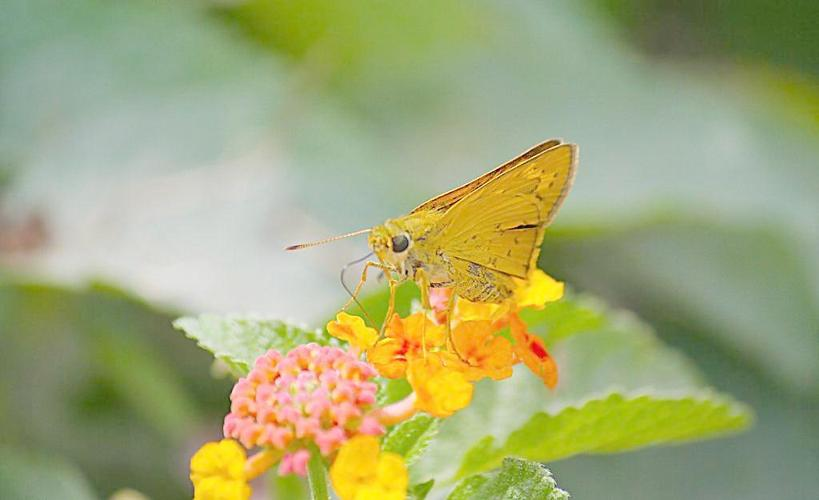Hesperiidae: (282, 134, 583, 358)
